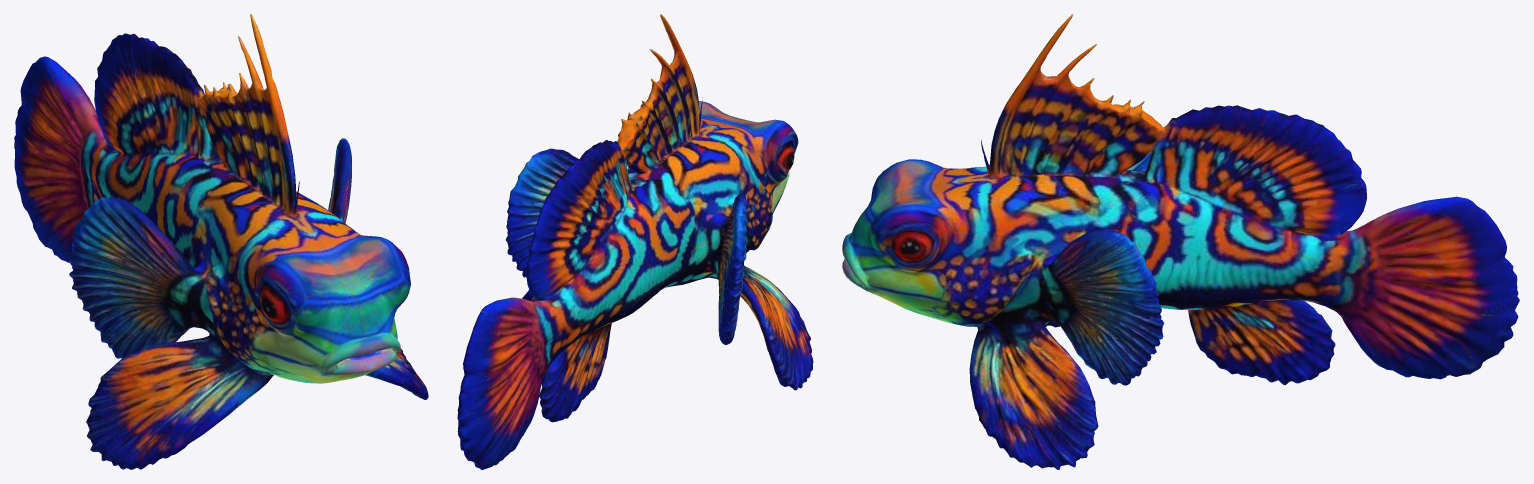
3 views of the same model, side by side, from view 1: azimuth 30°, elevation 25°; view 2: azimuth 150°, elevation 25°; view 3: azimuth 270°, elevation 25° (orthographic). The views are drawn at different scales.
Bounding box in the file's own units: 0.9858 × 1.19 × 1.9.
Materials: 1 (1 with a texture image).
